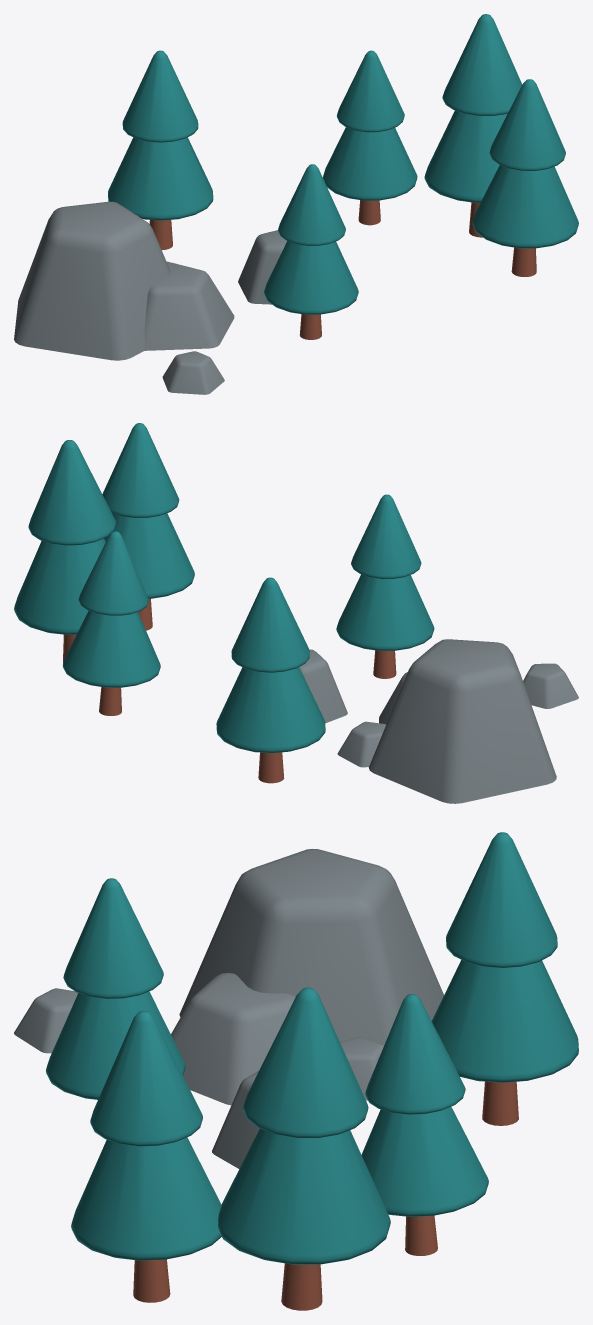
Rendered from detail_forestA.dae.
The picture shows the model from 3 angles, top to bottom: view 1: azimuth 30°, elevation 25°; view 2: azimuth 150°, elevation 25°; view 3: azimuth 270°, elevation 25°; orthographic projection. The views are drawn at different scales.
Visible parts, largest first — view 1: detail_forestA; view 2: detail_forestA; view 3: detail_forestA.
Boxes of the visible parts, bbox=[...] form: detail_forestA: bbox=[14, 14, 578, 394]; detail_forestA: bbox=[14, 423, 578, 803]; detail_forestA: bbox=[14, 832, 578, 1310].
Bounding box in the file's own units: 1.84 × 1.18 × 0.7338.
